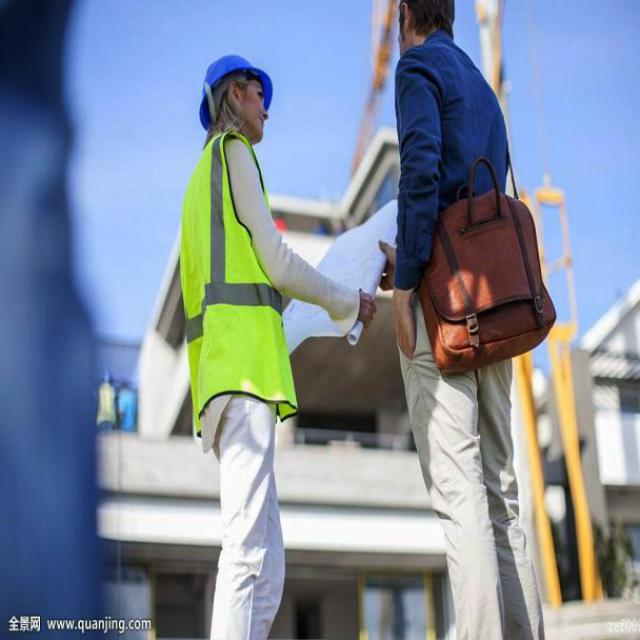helmet: (182, 38, 298, 155)
vest: (152, 135, 312, 421)
